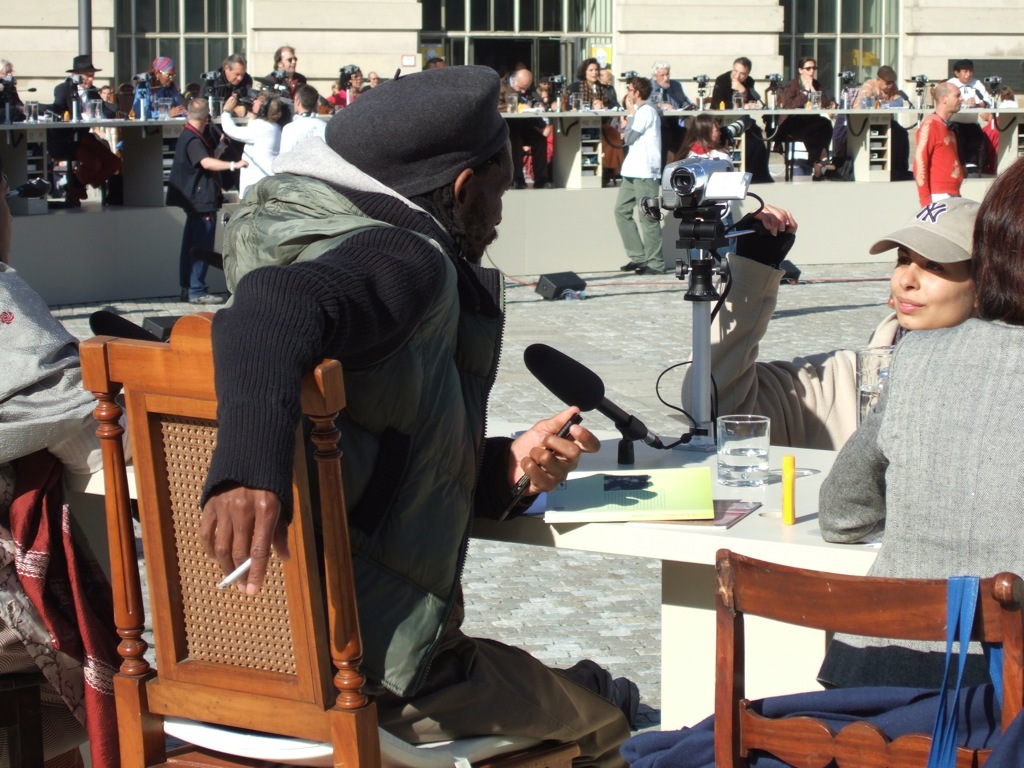Human_hand: (182, 487, 272, 595), (509, 407, 601, 500), (752, 202, 797, 240), (225, 93, 240, 109), (233, 159, 248, 171), (591, 100, 604, 108), (733, 80, 741, 92)
